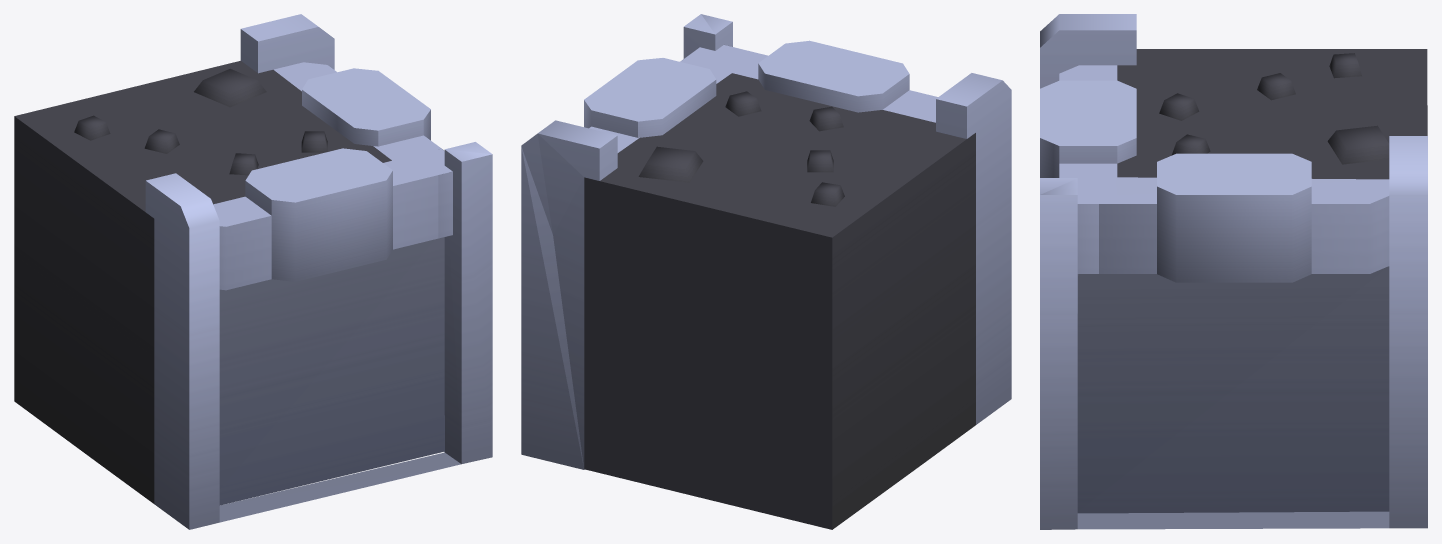
File: LShape-Wall.glb
The picture shows the model from 3 angles, left to right: view 1: azimuth 30°, elevation 25°; view 2: azimuth 150°, elevation 25°; view 3: azimuth 270°, elevation 25°; orthographic projection. The views are drawn at different scales.
Visible parts, largest first — view 1: wall-lshape; view 2: wall-lshape; view 3: wall-lshape.
Boxes of the visible parts, x1=… form: wall-lshape: x1=14, y1=14, x2=492, y2=529; wall-lshape: x1=521, y1=14, x2=1011, y2=529; wall-lshape: x1=1040, y1=14, x2=1427, y2=529.
Size of the model in its own units: 1 by 1 by 1.
1 material, 1 textured.
